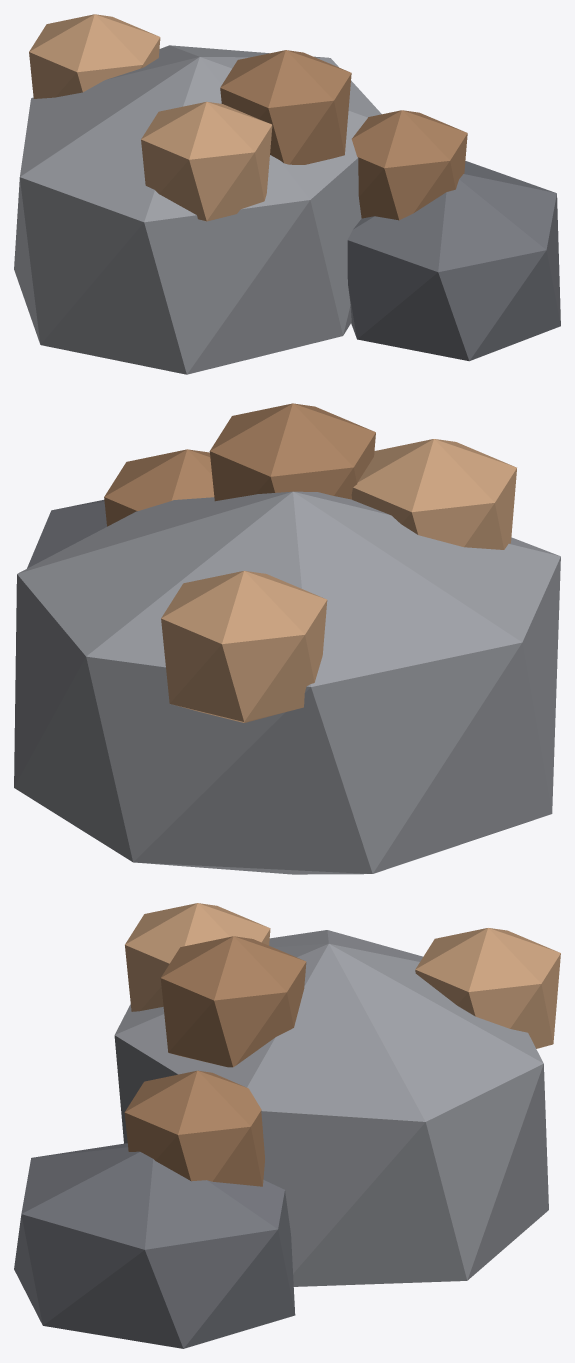
The model's file is drop_ore_clay.glb.
3 views of the same model, one above another, from view 1: azimuth 30°, elevation 25°; view 2: azimuth 150°, elevation 25°; view 3: azimuth 270°, elevation 25° (orthographic). The views are drawn at different scales.
Parts seen in each view (by area): view 1: drop_ore_clay; view 2: drop_ore_clay; view 3: drop_ore_clay.
Boxes of the visible parts, x1,y1,x2,y2 form: drop_ore_clay: (14,14,560,374); drop_ore_clay: (14,403,560,874); drop_ore_clay: (14,903,560,1348).
Size of the model in its own units: 0.2685 by 0.1856 by 0.2512.
